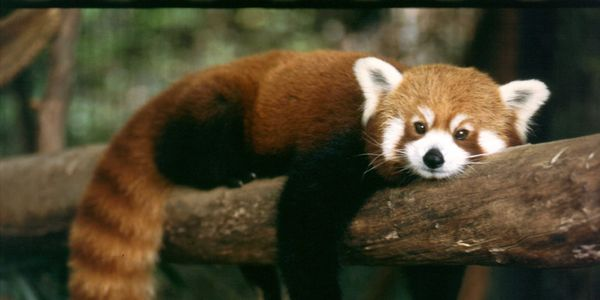red_panda: (68, 55, 541, 294)
